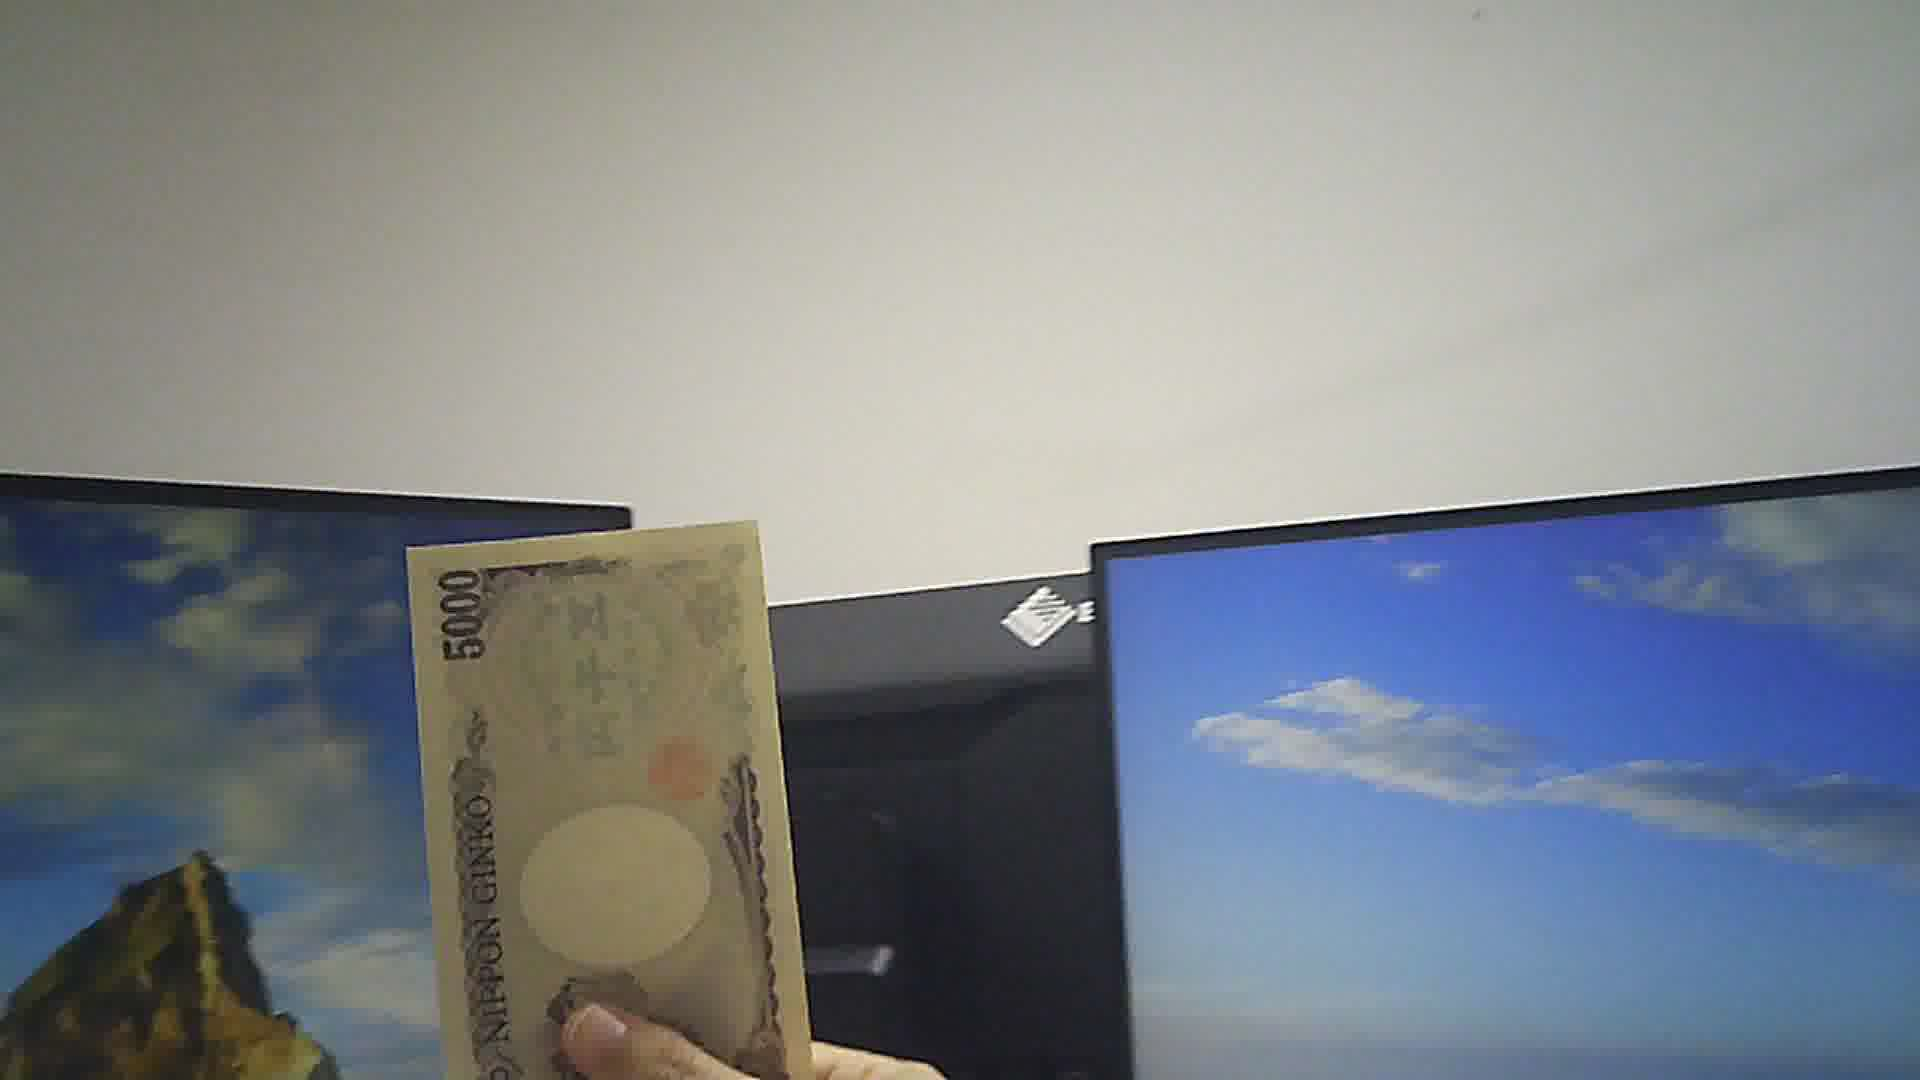5,000 Yen: (393, 516, 833, 1079)
